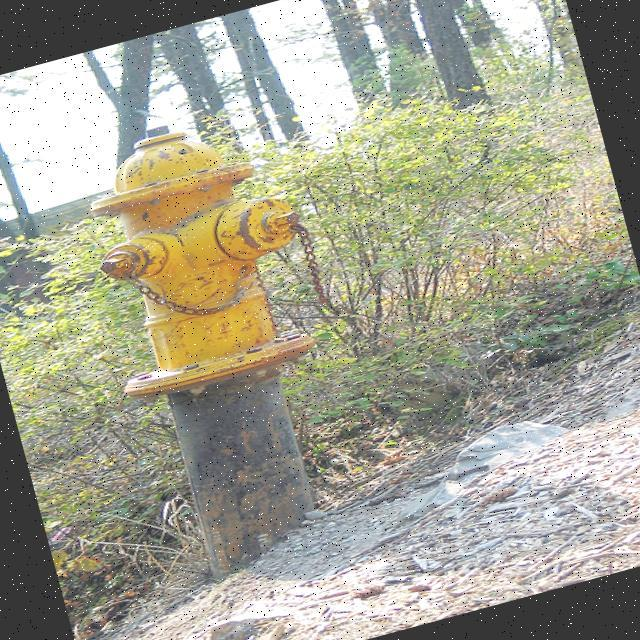fire_hydrant: (56, 90, 352, 398), (124, 339, 368, 587)
